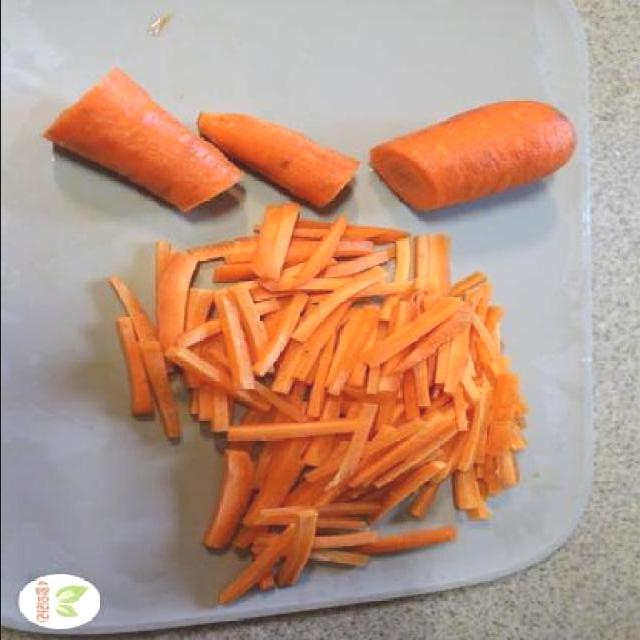carrot: (30, 68, 246, 216), (366, 99, 584, 217), (201, 109, 357, 213)
